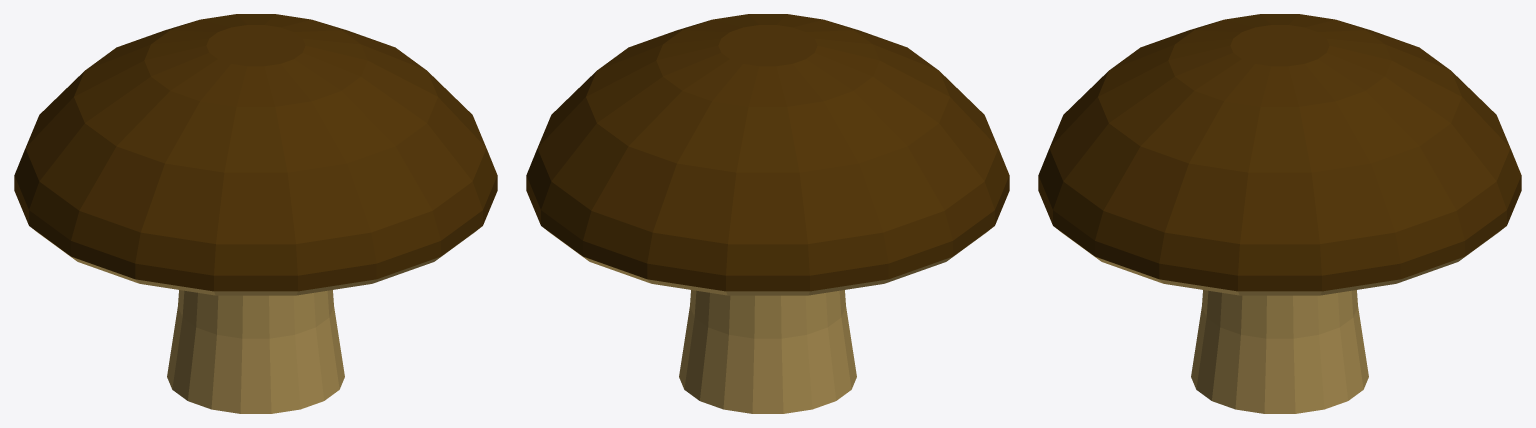
The model's file is Mushroom_Brown.fbx.
3 renders of one model, left to right at view 1: azimuth 30°, elevation 25°; view 2: azimuth 150°, elevation 25°; view 3: azimuth 270°, elevation 25°, orthographic.
Visible parts, largest first — view 1: Head, Foot; view 2: Head, Foot; view 3: Head, Foot.
Boxes of the visible parts, left/top/right/bottom form: Head: left=14, top=14, right=497, bottom=291; Foot: left=32, top=228, right=479, bottom=413; Head: left=526, top=14, right=1009, bottom=291; Foot: left=544, top=228, right=991, bottom=413; Head: left=1038, top=14, right=1521, bottom=291; Foot: left=1056, top=228, right=1503, bottom=413.
Size of the model in its own units: 60.57 by 46.54 by 61.51.
